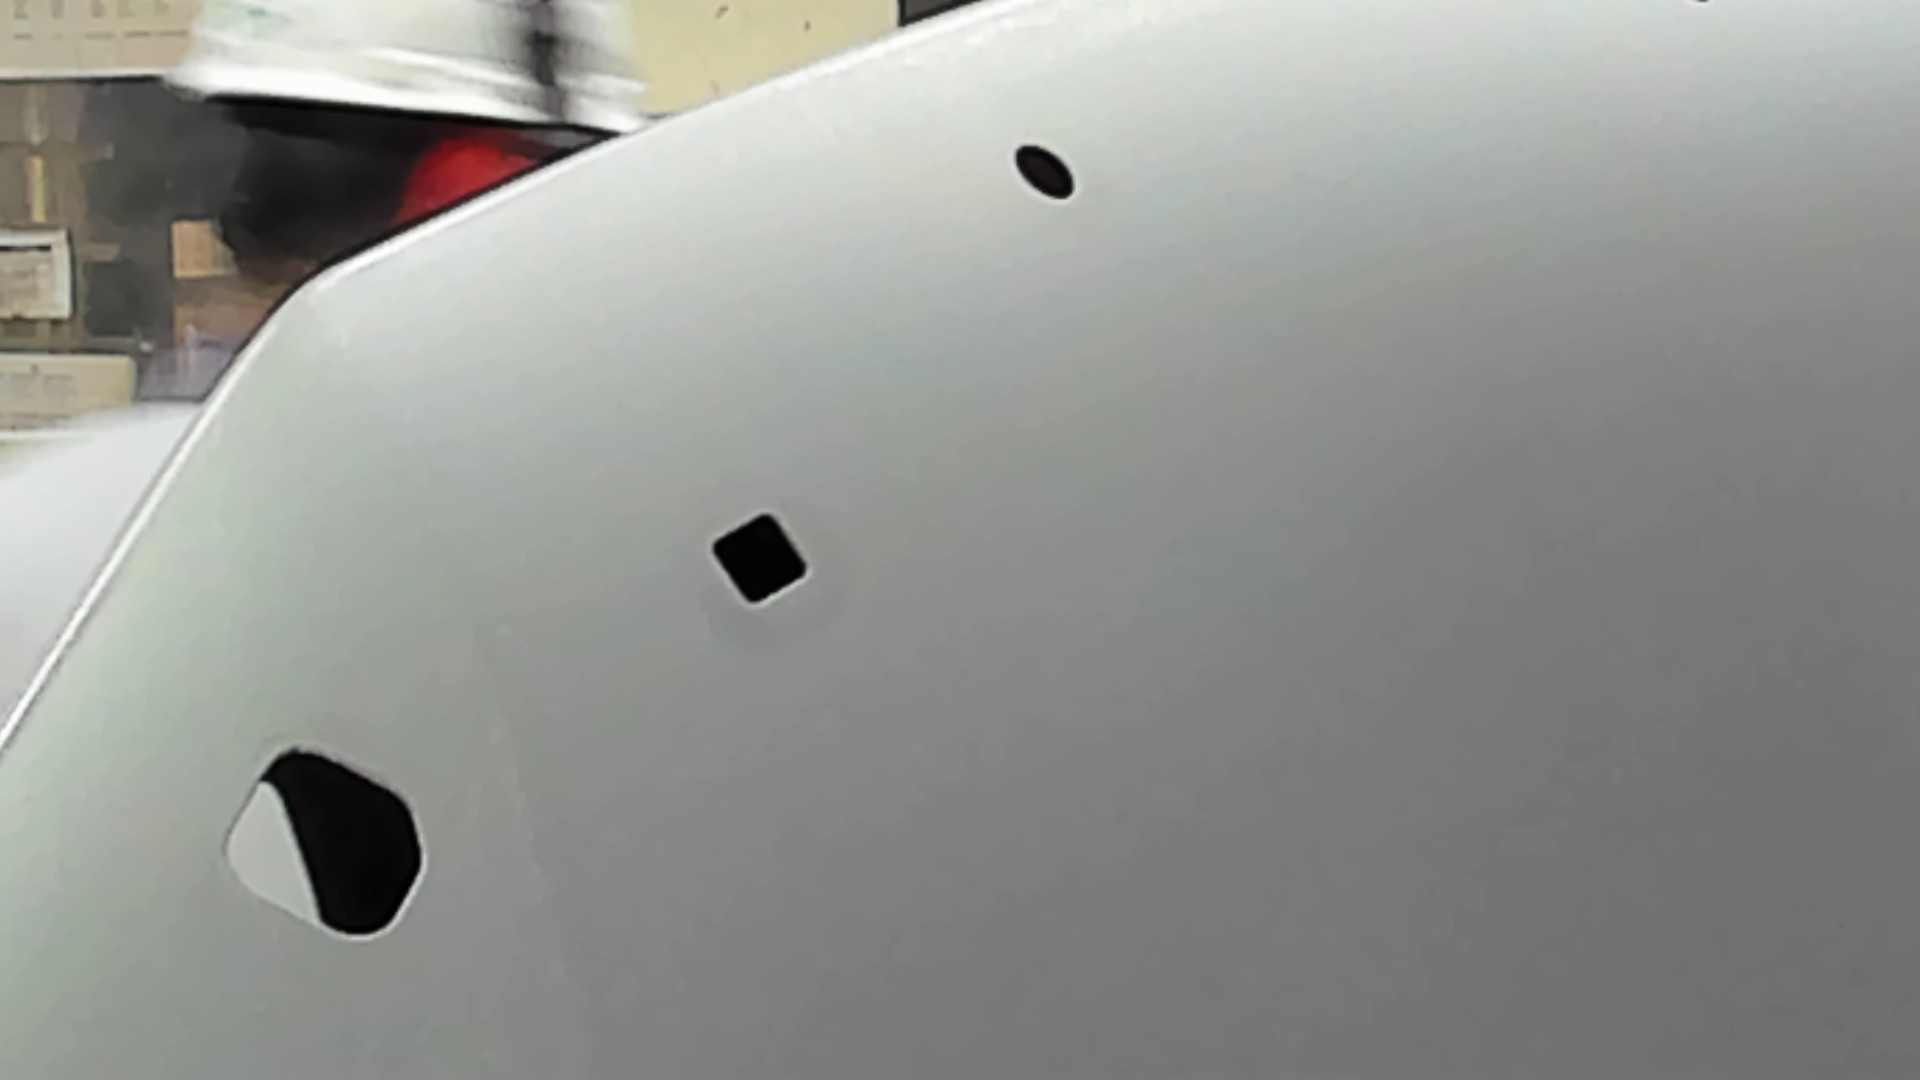chico: (1010, 138, 1081, 204)
grande: (214, 738, 436, 952)
mediano: (704, 504, 818, 613)
